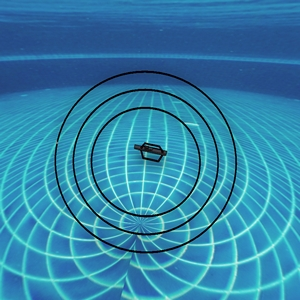circle: (49, 58, 258, 265)
submarine: (136, 143, 167, 160)
